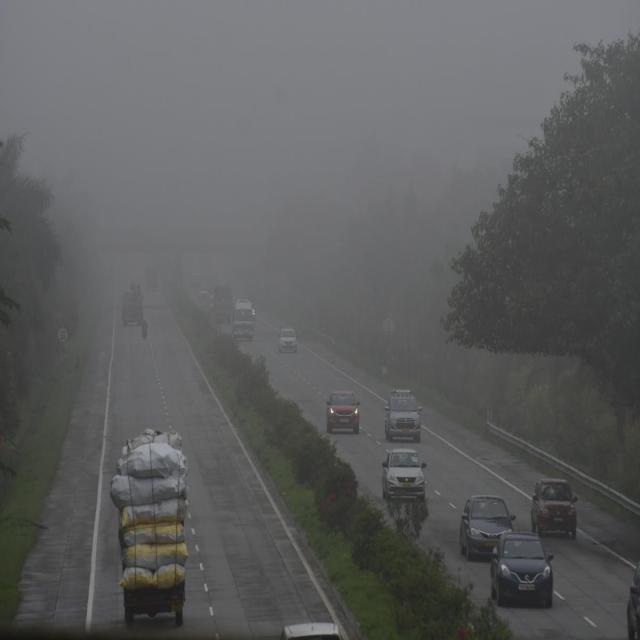moderate_traffic: (328, 365, 615, 640)
no-low traffic: (66, 252, 208, 640)
